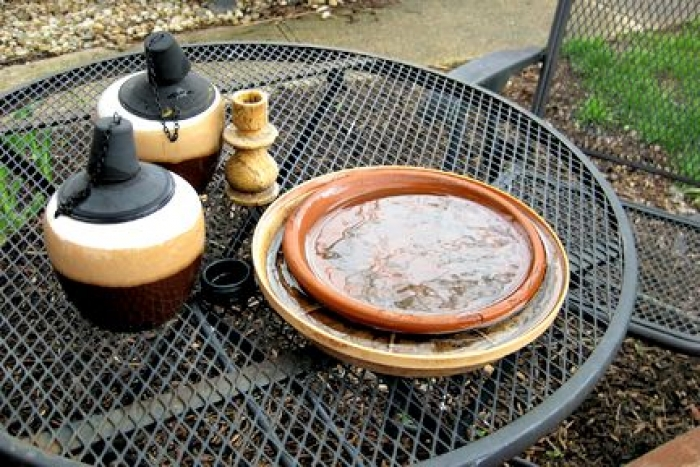container: (245, 154, 574, 386), (278, 164, 553, 343), (199, 254, 253, 305)
water: (295, 178, 535, 320), (281, 284, 322, 319), (315, 309, 361, 339), (391, 336, 465, 354), (352, 327, 401, 351), (268, 245, 288, 293), (467, 328, 504, 349), (545, 268, 562, 302), (529, 295, 547, 325), (503, 317, 525, 339)
